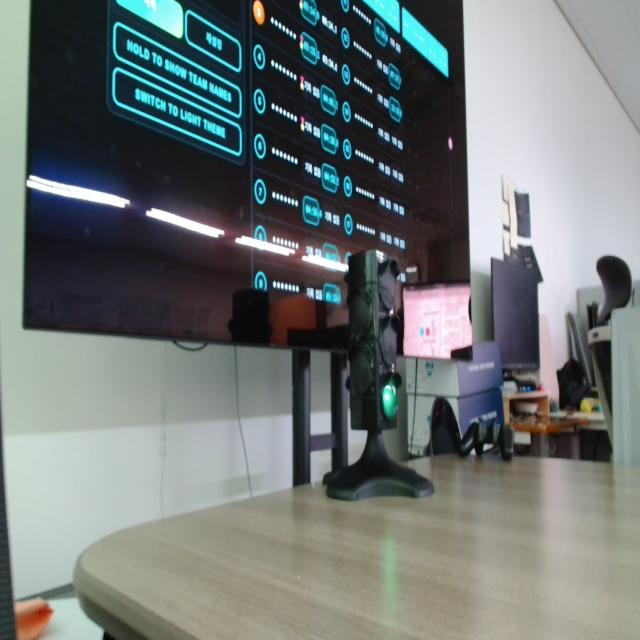green_light: (382, 383, 397, 421)
